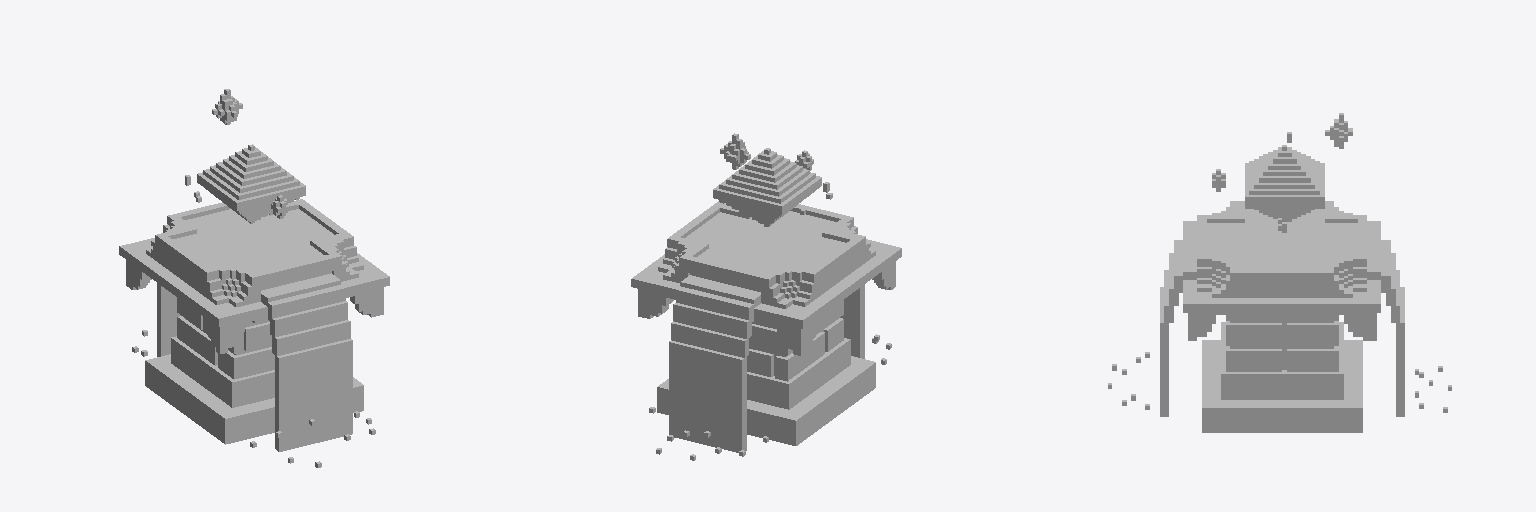
File: water-altar.ufbx.obj
3 renders of one model, left to right at view 1: azimuth 30°, elevation 25°; view 2: azimuth 150°, elevation 25°; view 3: azimuth 270°, elevation 25°, orthographic.
Visible parts, largest first — view 1: object 1; view 2: object 1; view 3: object 1.
Part boxes in pixels (bbox=[...]): object 1: bbox=[119, 89, 389, 467]; object 1: bbox=[631, 133, 901, 460]; object 1: bbox=[1108, 113, 1451, 432].
Bounding box in the file's own units: 4.2 × 6.7 × 7.3.